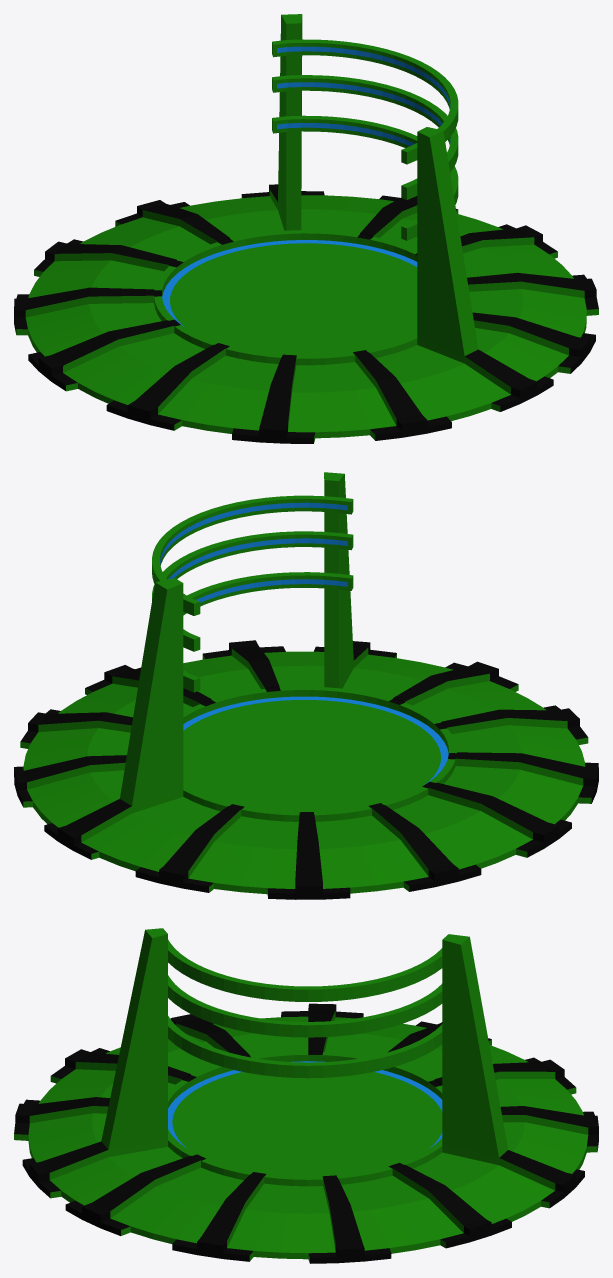
File: teleport.fbx
The picture shows the model from 3 angles, top to bottom: view 1: azimuth 30°, elevation 25°; view 2: azimuth 150°, elevation 25°; view 3: azimuth 270°, elevation 25°; orthographic projection.
Visible parts, largest first — view 1: Цилиндр; view 2: Цилиндр; view 3: Цилиндр.
Boxes of the visible parts, box(x1,y1,x2,y2) form: Цилиндр: box(14, 14, 598, 443); Цилиндр: box(14, 472, 598, 899); Цилиндр: box(14, 928, 598, 1263).
Bounding box in the file's own units: 743 × 325 × 745.
